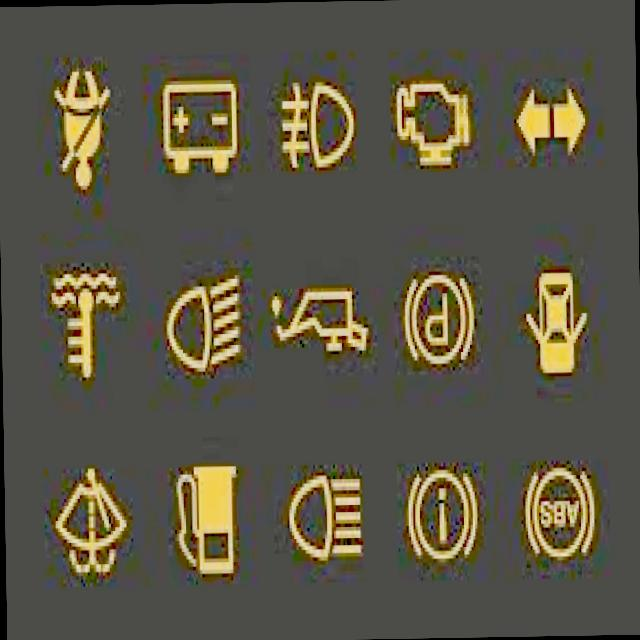kontrolka: (38, 251, 127, 387), (48, 454, 136, 590), (42, 52, 120, 200), (156, 64, 242, 190), (517, 456, 607, 576), (265, 74, 365, 182), (385, 68, 483, 176), (397, 452, 486, 570), (264, 274, 374, 368), (166, 458, 246, 584), (398, 258, 484, 375), (160, 259, 246, 376), (506, 63, 593, 174), (282, 462, 370, 568), (519, 253, 593, 375)
